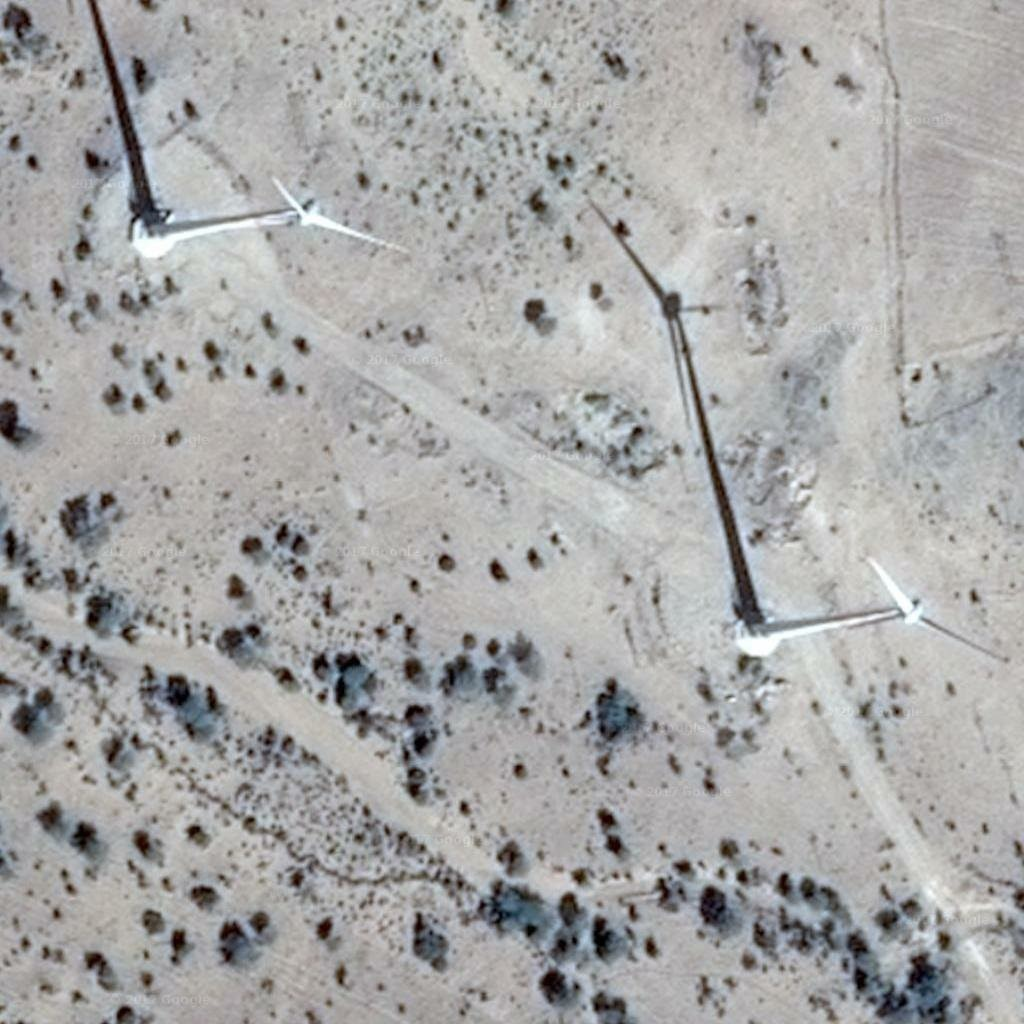Windmill: (586, 193, 772, 579)
